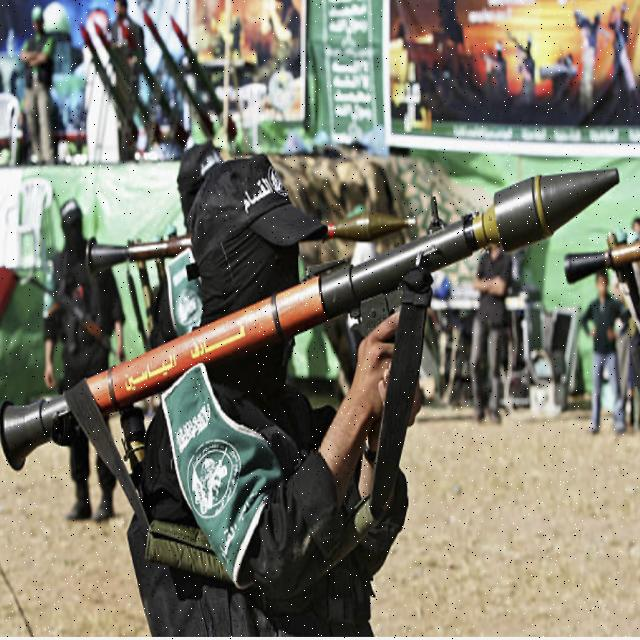bazooka: (1, 157, 632, 479)
